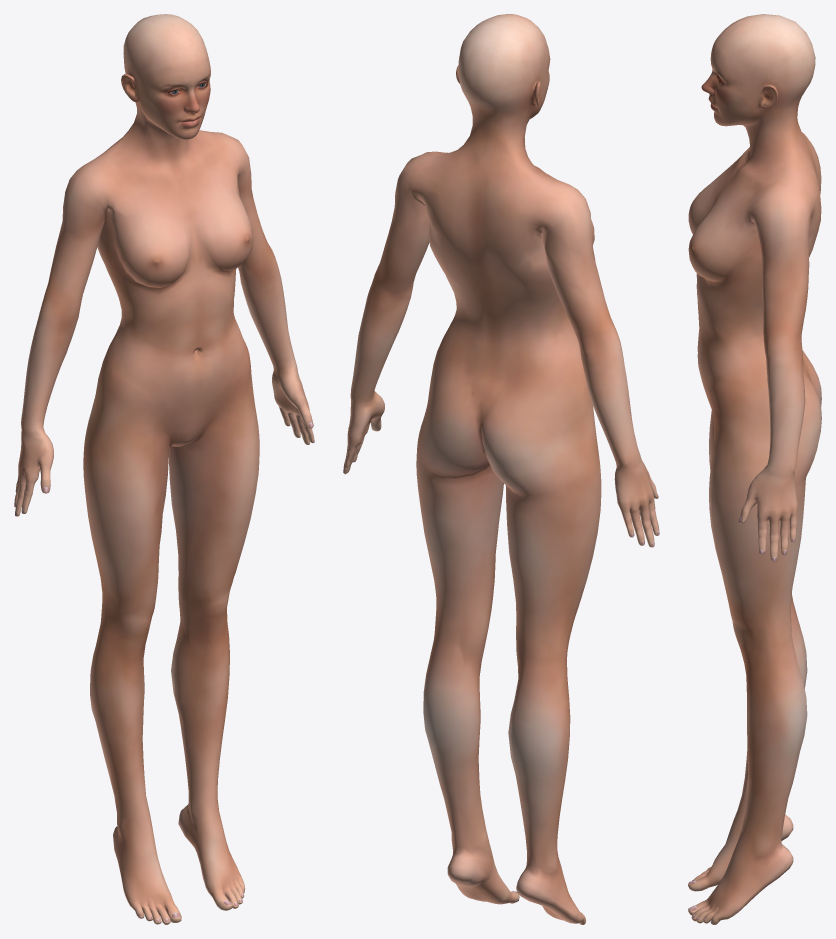
Rendered from tip2.obj.
3 renders of one model, left to right at view 1: azimuth 30°, elevation 25°; view 2: azimuth 150°, elevation 25°; view 3: azimuth 270°, elevation 25°, orthographic. The views are drawn at different scales.
Visible parts, largest first — view 1: CC_Base_Body; view 2: CC_Base_Body; view 3: CC_Base_Body.
Boxes of the visible parts, left/top/right/bottom form: CC_Base_Body: left=14, top=14, right=314, bottom=924; CC_Base_Body: left=343, top=14, right=659, bottom=924; CC_Base_Body: left=688, top=14, right=821, bottom=924.
Size of the model in its own units: 66.33 by 188 by 25.7.
